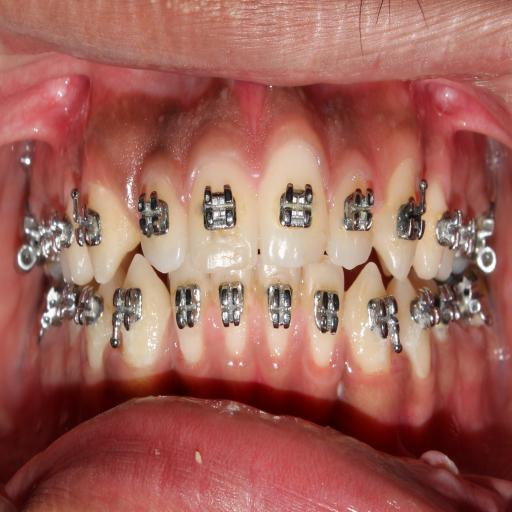correct_brace: (364, 284, 404, 368), (107, 276, 149, 354)
incorrect_brace: (324, 144, 379, 271), (134, 158, 186, 276)
